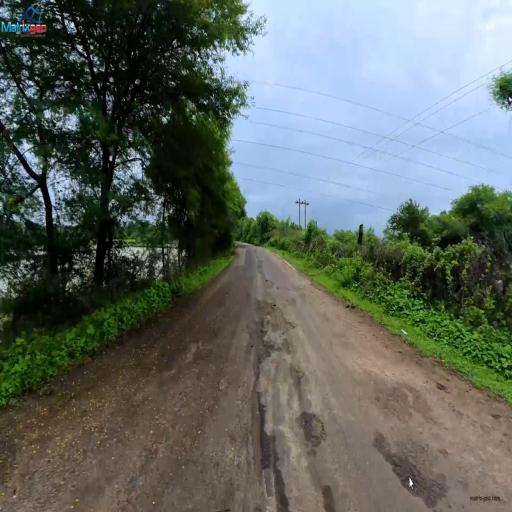pothole: (310, 404, 328, 454)
ravelling: (248, 282, 291, 498)
